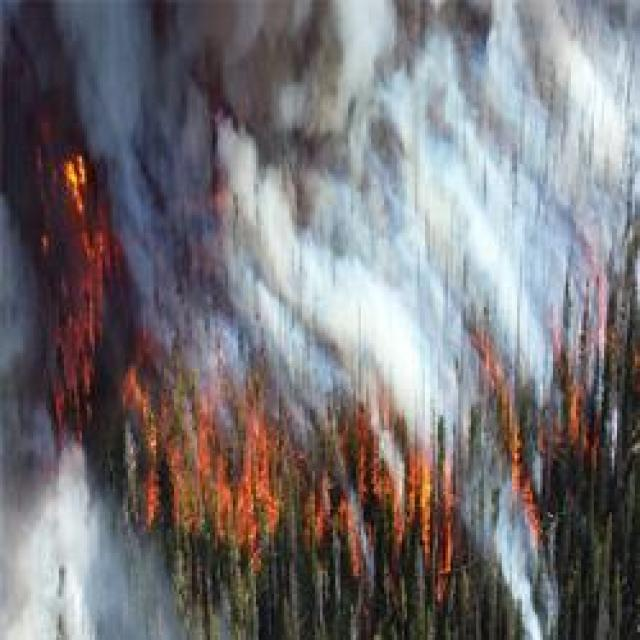fire: (49, 143, 107, 395)
smoke: (161, 0, 640, 140), (205, 142, 439, 391), (412, 147, 548, 341), (0, 417, 100, 640)
